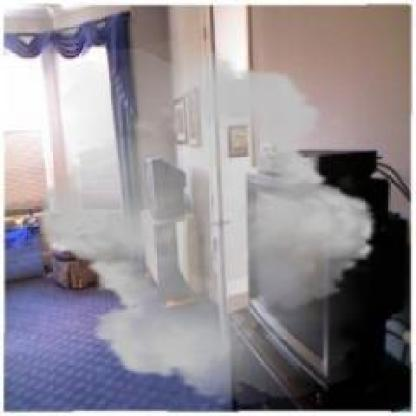Smoke: (24, 41, 390, 404)
